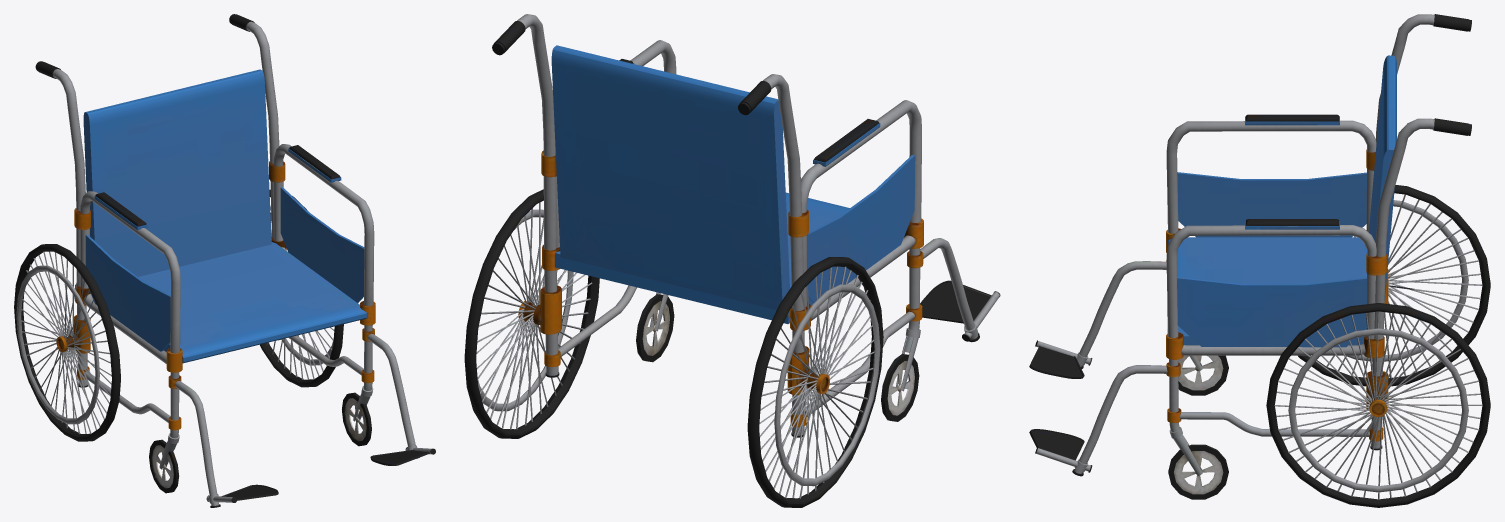
The model's file is hw_wheel_chair.glb.
The picture shows the model from 3 angles, left to right: view 1: azimuth 30°, elevation 25°; view 2: azimuth 150°, elevation 25°; view 3: azimuth 270°, elevation 25°; orthographic projection. The views are drawn at different scales.
Parts seen in each view (by area): view 1: Wheel_chair; view 2: Wheel_chair; view 3: Wheel_chair.
Part boxes in pixels (x1=…): Wheel_chair: x1=14, y1=14, x2=435, y2=507; Wheel_chair: x1=464, y1=14, x2=1000, y2=507; Wheel_chair: x1=1029, y1=14, x2=1490, y2=507.
Bounding box in the file's own units: 1.01 × 1.35 × 1.49.
Materials: 1 (1 with a texture image).
